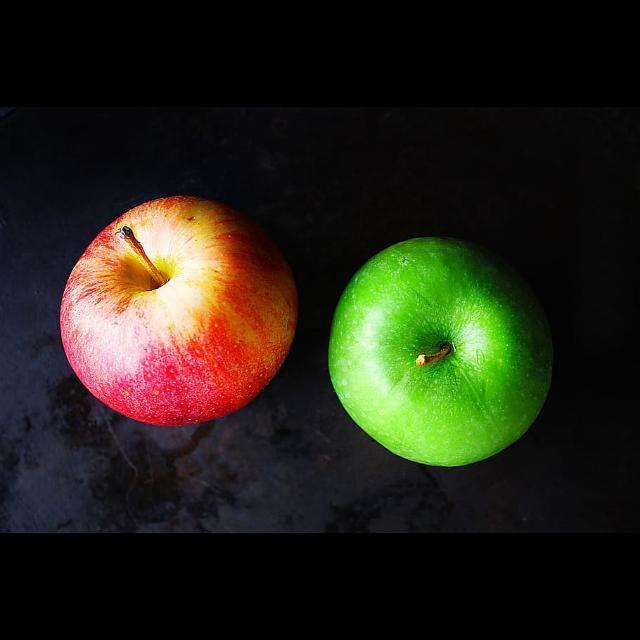Apel Segar: (52, 180, 304, 438), (316, 231, 572, 477)
